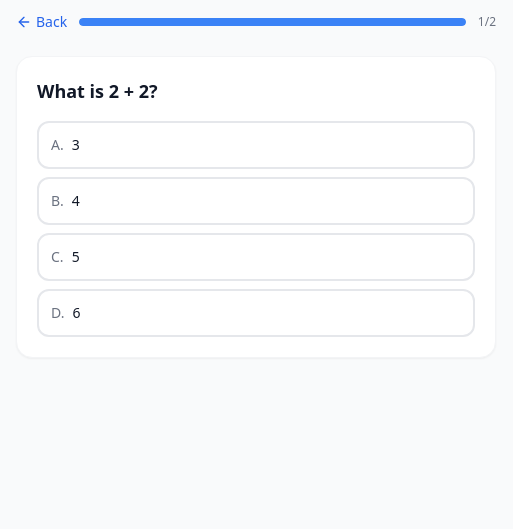
Scenario: QuizGame › moves to the next question after selecting an answer
What coordinates should you click on to do the following:
click the button "B.4"
I would click on:
 (55, 200)
Its box is [37,177,475,225].
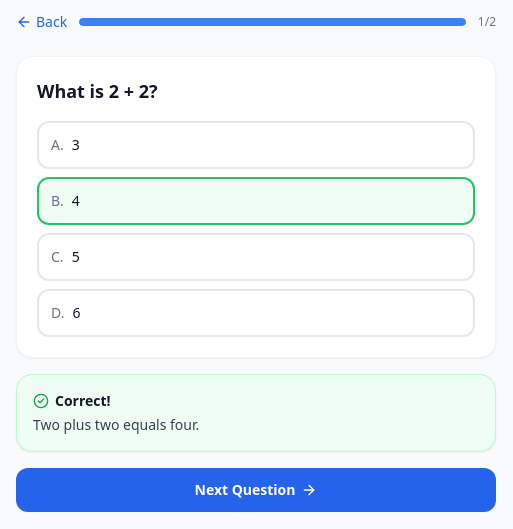
Expected: the text "Correct!" is shown, [33,391,111,411]
What coordinates should you click on to do the following:
click the button "Next Question"
I would click on:
 (256, 490)
Its box is [16,468,496,512].
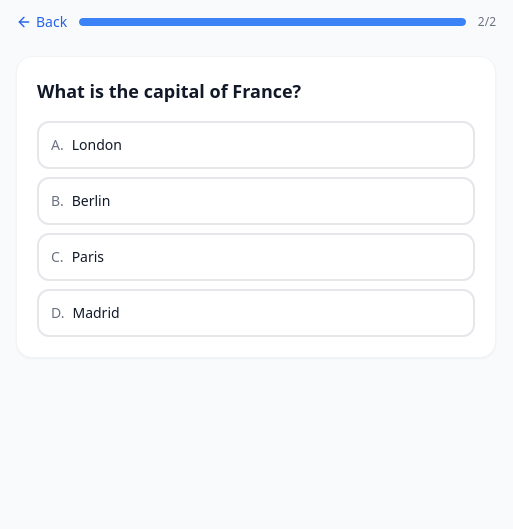
Expected: the heading "What is the capital of France?" is shown, [37,77,301,105]
